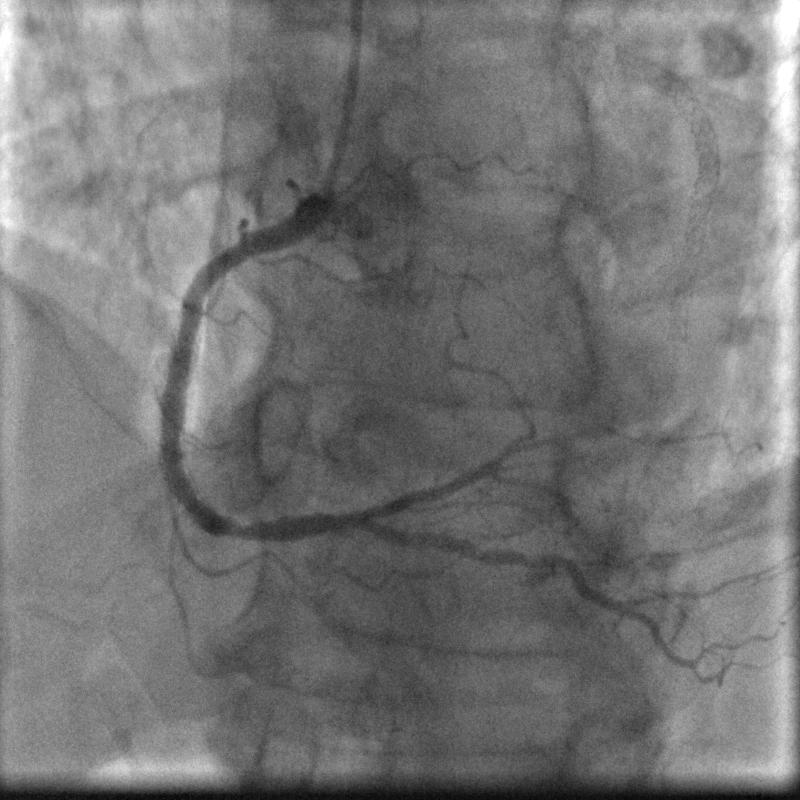Stenosis: (205, 232, 247, 285)
